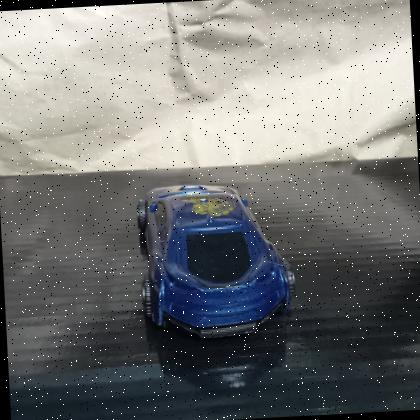Car: (136, 185, 295, 340)
